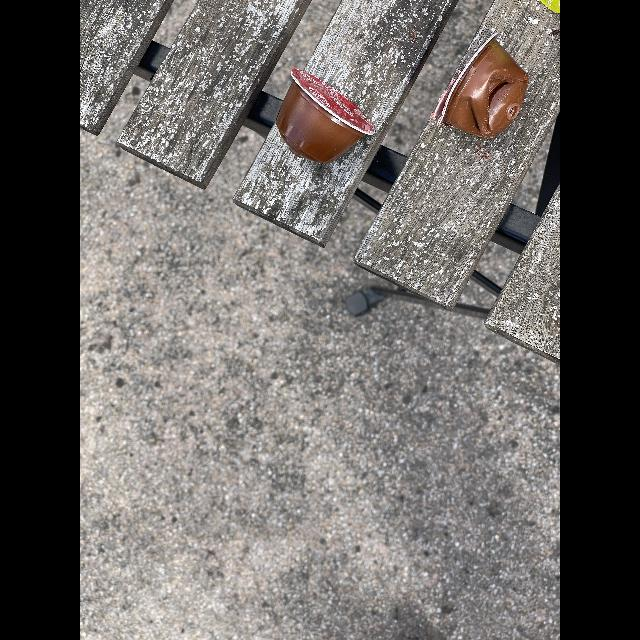damaged_capsule: (424, 32, 536, 148)
intact_capsule: (271, 55, 379, 163)
